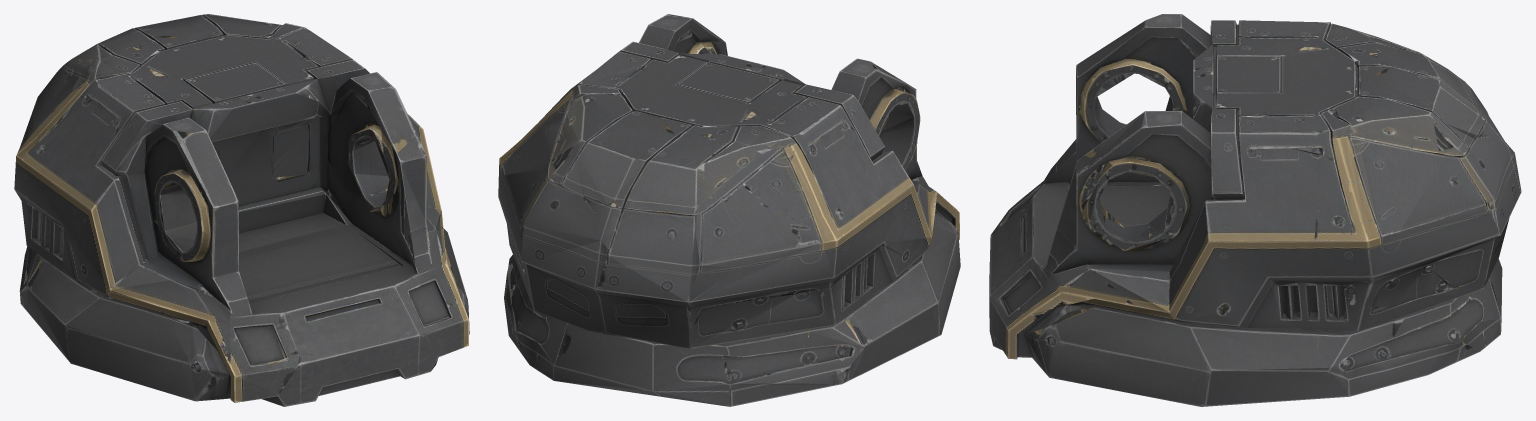
Rendered from imperial_point_defence_turret__turning_house_lod1.glb.
3 views of the same model, side by side, from view 1: azimuth 30°, elevation 25°; view 2: azimuth 150°, elevation 25°; view 3: azimuth 270°, elevation 25° (orthographic). The views are drawn at different scales.
Visible parts, largest first — view 1: mesh_node; view 2: mesh_node; view 3: mesh_node.
Boxes of the visible parts, x1=… form: mesh_node: x1=14, y1=14, x2=469, y2=406; mesh_node: x1=498, y1=14, x2=960, y2=406; mesh_node: x1=989, y1=14, x2=1521, y2=406.
Size of the model in its own units: 5.62 by 3.18 by 6.39.
1 material, 1 textured.
